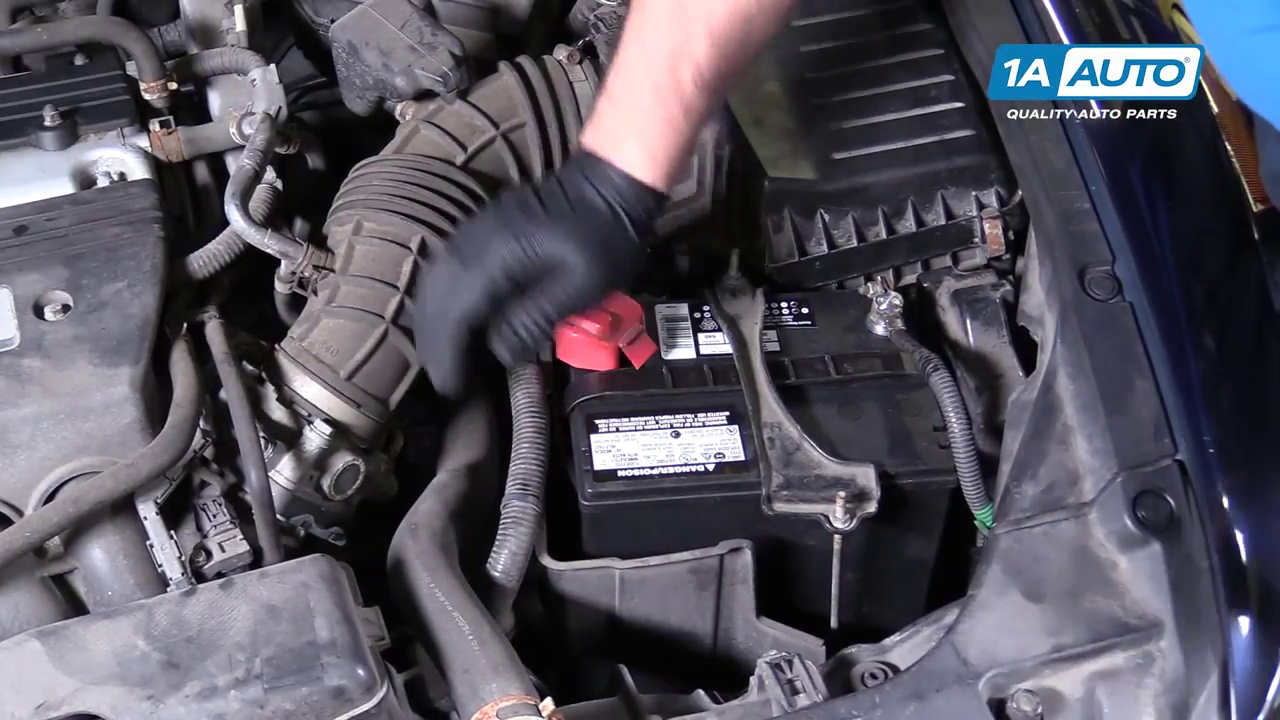battery: (560, 297, 964, 511)
neg_connected: (850, 269, 946, 378)
pos_touched: (441, 246, 664, 392)
